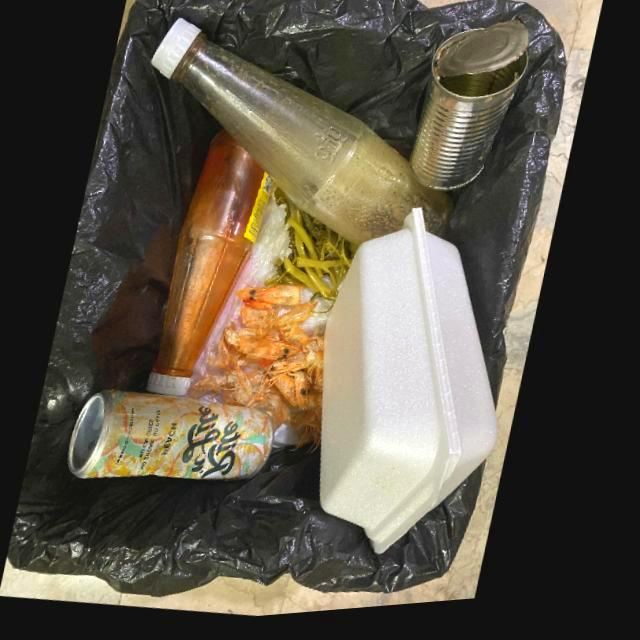aluminum: (411, 26, 531, 198), (72, 391, 281, 484)
glass_bottle: (150, 21, 455, 250), (151, 131, 275, 399)
left_over_food: (191, 308, 329, 459), (239, 289, 308, 315)
